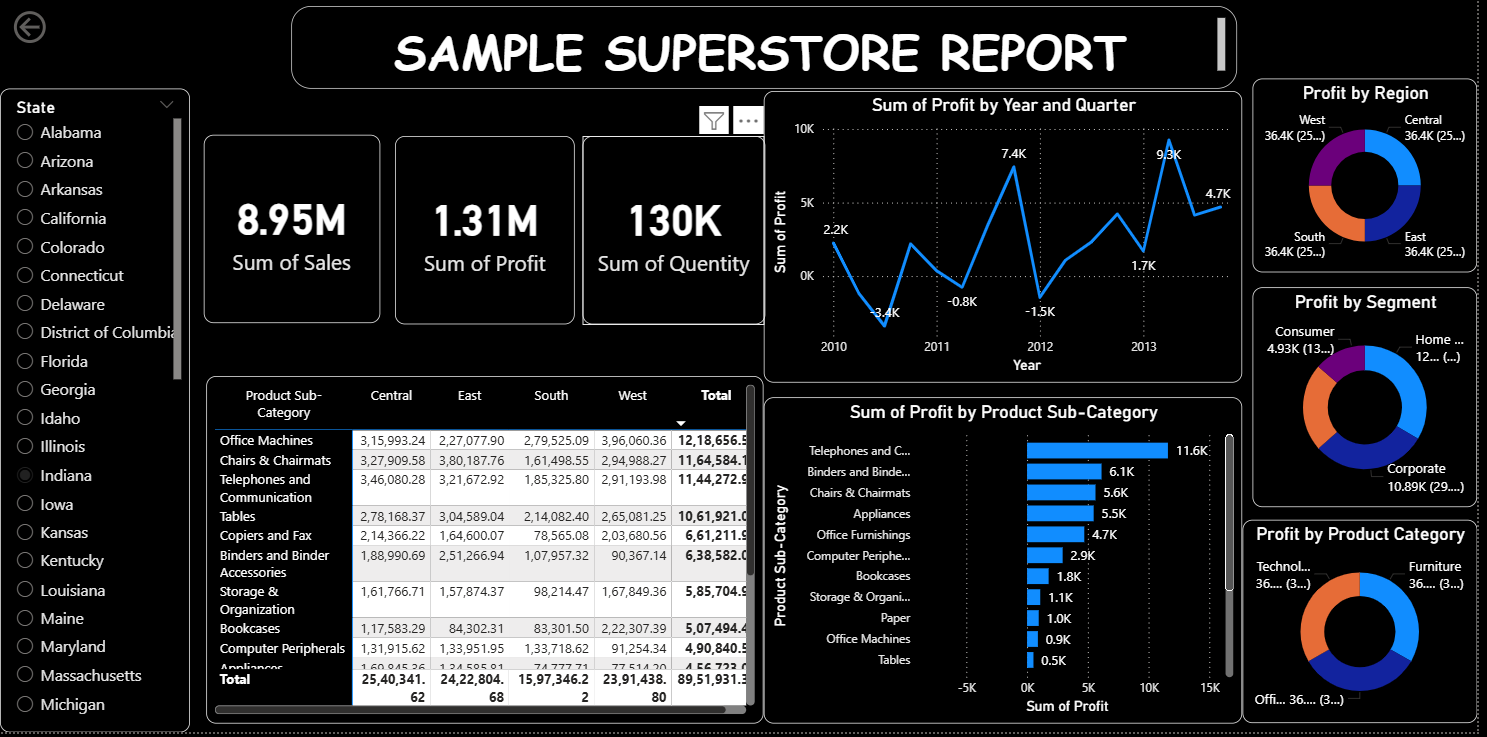

The page's visual inventory and layout, read from the dashboard file:
{"tool":"powerbi","page":{"name":"Page 1","canvas":[1500,747],"ordinal":0},"visuals":[{"type":"textbox","box":[295.6,10.1,960.4,83.7],"z":0},{"type":"donutChart","title":"Profit by Product Category","fields":{"Y":["Sum(Orders.Profit)"],"Category":["Orders (2).Product Category"]},"box":[1261.1,531.6,238.5,206.8],"z":1000},{"type":"donutChart","title":"Profit by  Region","fields":{"Y":["Sum(Orders.Profit)"],"Category":["Orders (2).Region"]},"box":[1271.2,83.7,228.4,196.6],"z":2000},{"type":"donutChart","title":"Profit by Segment","fields":{"Y":["Sum(Orders.Profit)"],"Category":["Orders.Customer Segment"]},"box":[1271.2,295.6,228.4,223.3],"z":3000},{"type":"barChart","fields":{"Y":["Sum(Orders.Profit)"],"Category":["Orders.Product Sub-Category"]},"box":[775.2,407.2,485.9,331.1],"z":4000},{"type":"lineChart","fields":{"Y":["Sum(Orders.Profit)"],"Category":["Orders.Order Date.Variation.Date Hierarchy.Year","Orders.Order Date.Variation.Date Hierarchy.Quarter"]},"box":[775.2,96.4,485.9,295.6],"z":5000},{"type":"slicer","fields":{"Values":["Orders.State or Province"]},"box":[0,93.9,192.8,653.4],"z":6000},{"type":"actionButton","box":[8.6,9.8,48.9,42.8],"z":7000},{"type":"pivotTable","fields":{"Rows":["Orders (2).Product Sub-Category"],"Columns":["Orders (2).Region"],"Values":["Sum(Orders (2).Sales)"]},"box":[209.3,385.7,565.8,352.7],"z":8000},{"type":"card","fields":{"Values":["Sum(Orders (2).Sales)"]},"box":[206.8,140.8,178.9,191.6],"z":9000},{"type":"card","fields":{"Values":["Sum(Orders (2).Profit)"]},"box":[400.9,142.1,182.7,191.6],"z":10000},{"type":"card","fields":{"Values":["Sum(Orders (2).Quantity ordered new)"]},"box":[591.2,142.1,185.2,191.6],"z":11000}]}

Visuals, with their boxes in screenshot pixels (x1, y1, x2, y2), scaled from the page's 1500x747 canvas onto the 1487x737 screenshot:
textbox: rect(293, 10, 1245, 93)
"Profit by Product Category" donutChart: rect(1250, 524, 1486, 729)
"Profit by  Region" donutChart: rect(1260, 83, 1486, 277)
"Profit by Segment" donutChart: rect(1260, 292, 1486, 512)
barChart - Sum(Orders.Profit) x Orders.Product Sub-Category: rect(768, 402, 1250, 728)
lineChart - Sum(Orders.Profit) x Orders.Order Date.Variation.Date Hierarchy.Year: rect(768, 95, 1250, 387)
slicer - Orders.State or Province: rect(0, 93, 191, 736)
actionButton: rect(9, 10, 57, 52)
pivotTable - Orders (2).Product Sub-Category x Orders (2).Region: rect(207, 381, 768, 729)
card - Sum(Orders (2).Sales): rect(205, 139, 382, 328)
card - Sum(Orders (2).Profit): rect(397, 140, 579, 329)
card - Sum(Orders (2).Quantity ordered new): rect(586, 140, 770, 329)
